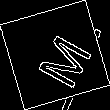M_NW: (22, 23, 88, 87)
